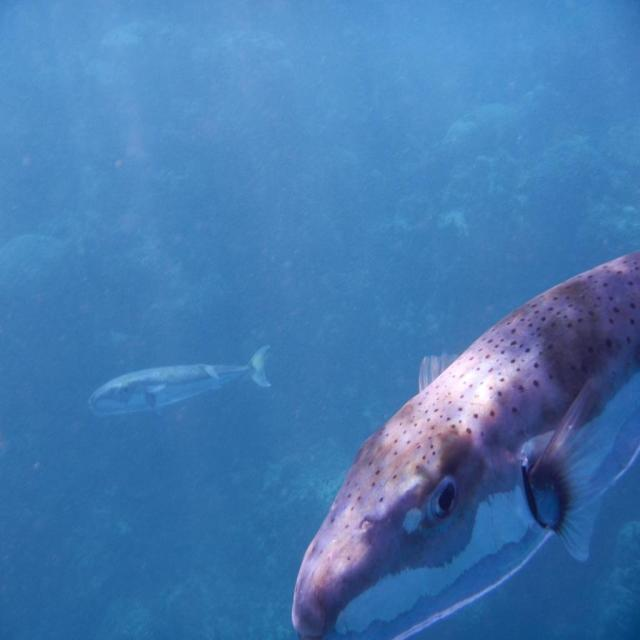Balon Baligi: (289, 248, 639, 638), (90, 345, 274, 416)
